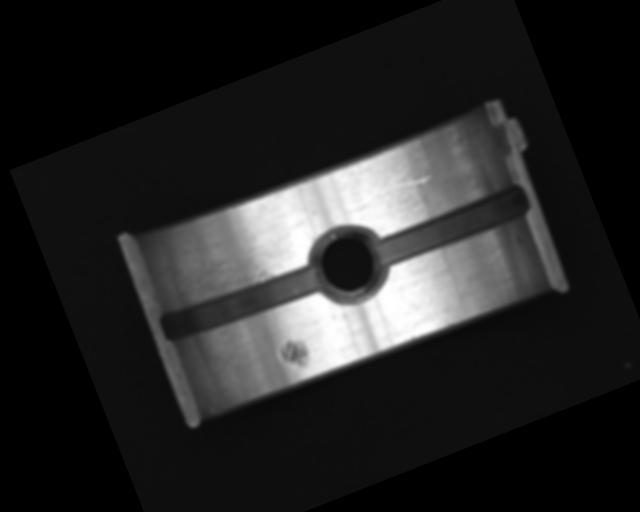bruise: (276, 333, 314, 375)
gap: (156, 253, 328, 351), (368, 179, 532, 272)
hole: (305, 215, 396, 312)
nick: (377, 170, 433, 200)
scratch: (149, 201, 315, 319)
